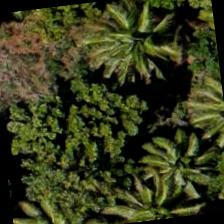Kelapa_Sawit: (81, 0, 182, 94), (130, 115, 223, 216)
